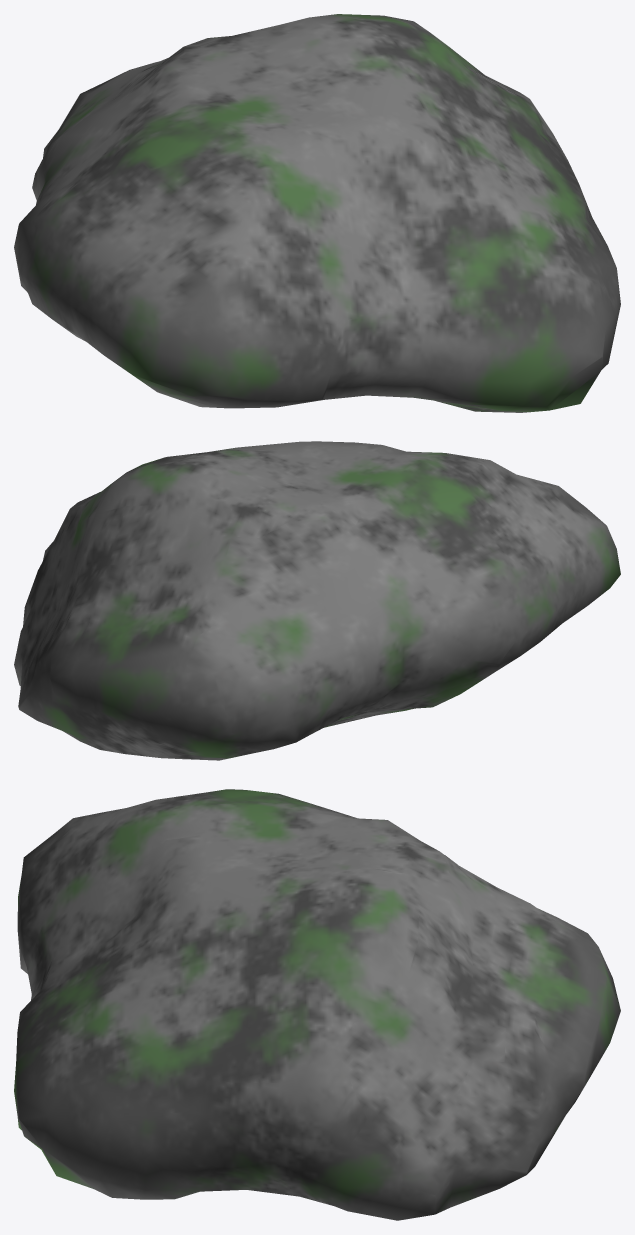
Rendered from RockA.fbx.
3 renders of one model, top to bottom at view 1: azimuth 30°, elevation 25°; view 2: azimuth 150°, elevation 25°; view 3: azimuth 270°, elevation 25°, orthographic. The views are drawn at different scales.
Visible parts, largest first — view 1: RockA; view 2: RockA; view 3: RockA.
Part boxes in pixels (x1=…): RockA: x1=14, y1=14, x2=620, y2=412; RockA: x1=14, y1=441, x2=620, y2=760; RockA: x1=14, y1=789, x2=620, y2=1220.
Size of the model in its own units: 26.11 by 13.09 by 25.81.
1 material, 1 textured.
